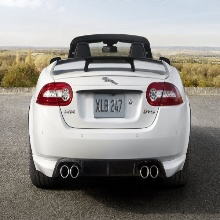no damage: (28, 34, 191, 189)
